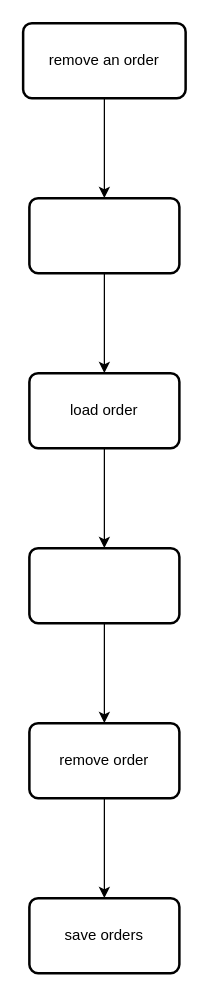
This 208x995 diagram has some shape labels left out. The centre of each missing label's shape, as x and y in pixels:
"get order from user" belongs at pixel 104 235.
"verify with user" belongs at pixel 104 585.
